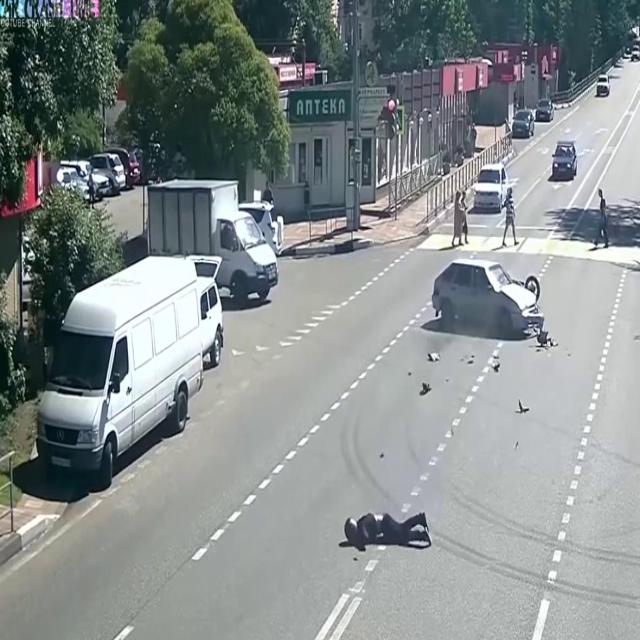accident: (423, 247, 555, 358)
non_accident: (32, 144, 290, 497)
